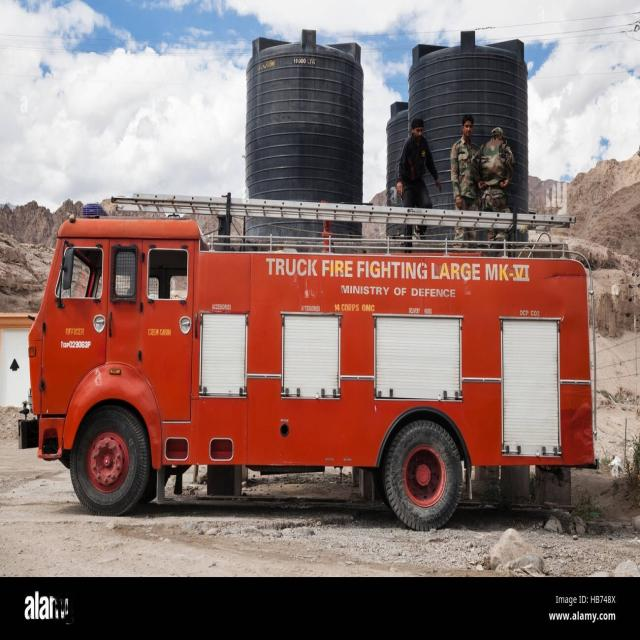emergency: (30, 194, 596, 529)
